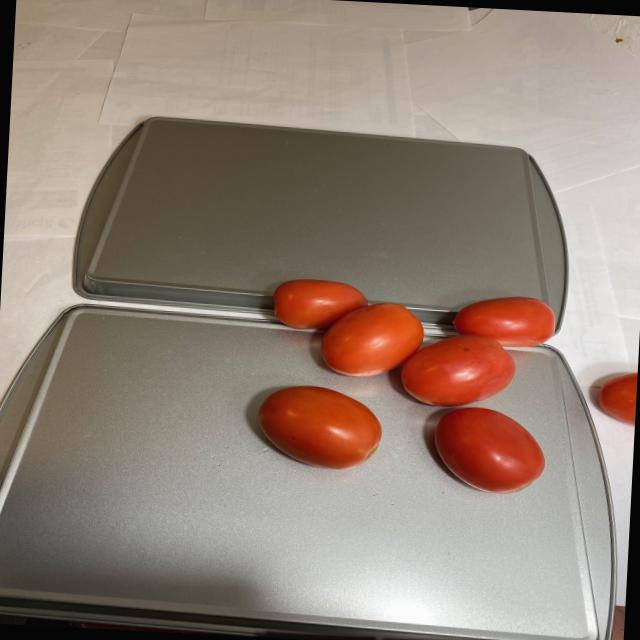tomato: (244, 279, 640, 498)
